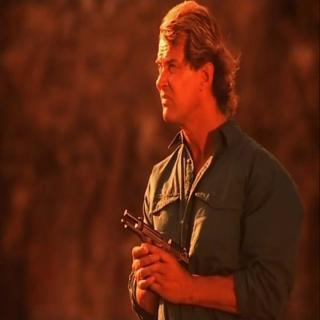gun: (120, 204, 194, 307)
